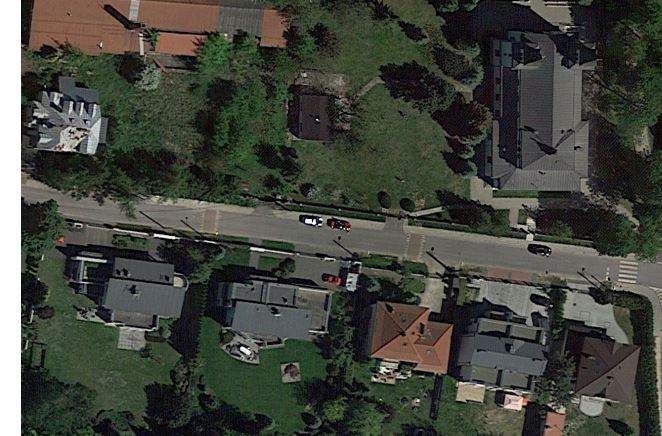church: (482, 17, 597, 198)
family house: (90, 252, 196, 339), (216, 272, 335, 348), (457, 310, 551, 401), (356, 300, 453, 381), (27, 86, 110, 161), (573, 329, 643, 415), (292, 91, 350, 141)
